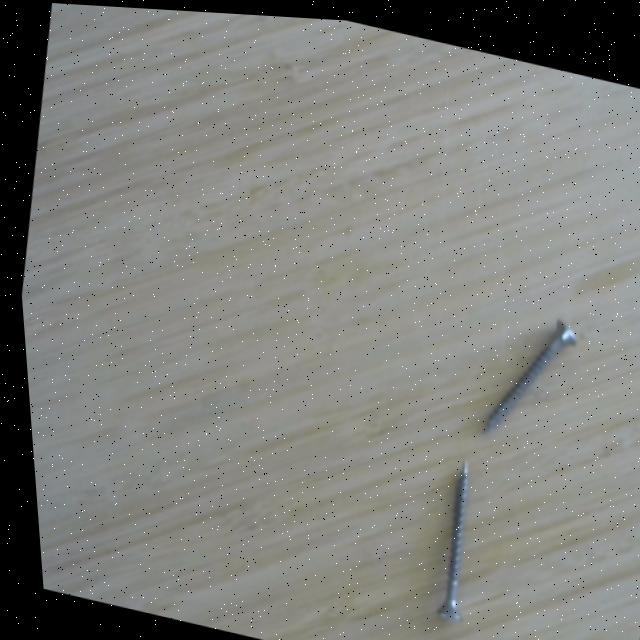Black screw: (472, 301, 584, 440), (419, 444, 471, 626)
